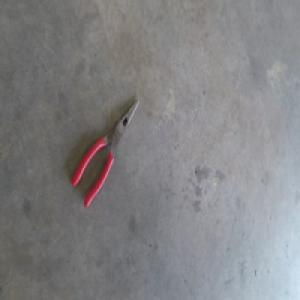Pliers: (69, 96, 137, 206)
